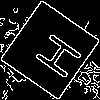H: (25, 25, 84, 82)
